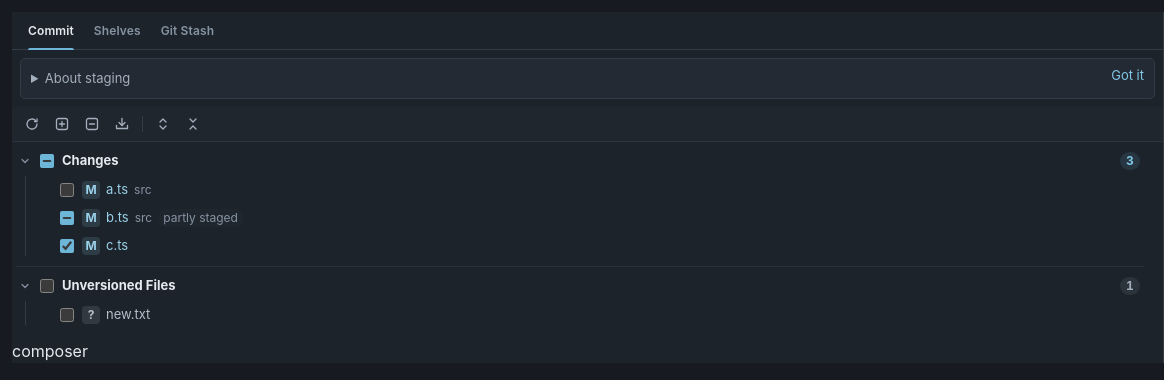
Test: CommitPanel › closes the file menu with Escape and returns focus to the file
The width and height of the screenshot is (1164, 380).
Right-click the button with aria-label "modified src/a.ts": (91, 190) [82,177,1144,203]
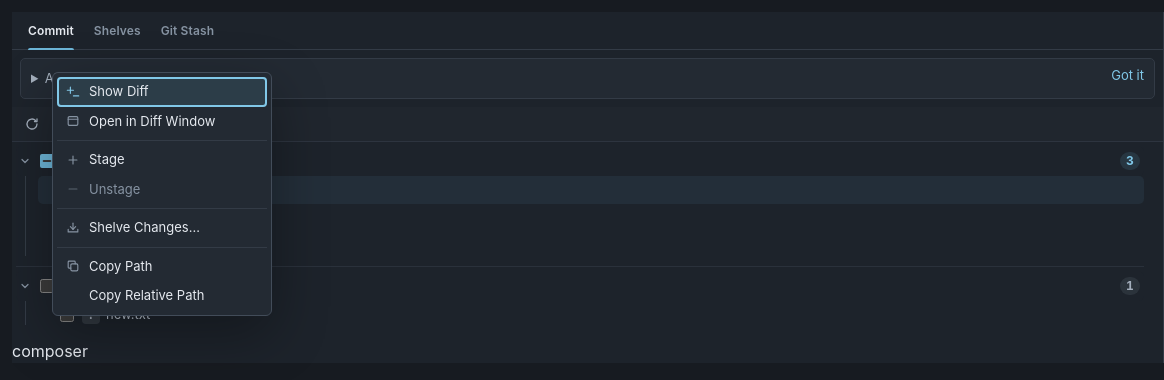
Result: the menu item "Show Diff" is shown at [57,77,267,106]
Press ArrowDown in the menu, box [52,72,272,316]
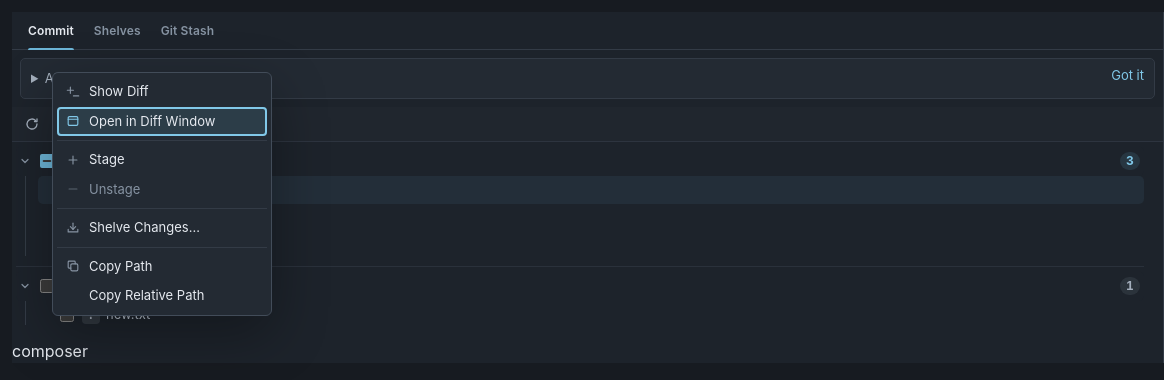
Result: the menu item "Open in Diff Window" is shown at [57,106,267,136]
Press Escape in the menu, box [52,72,272,316]
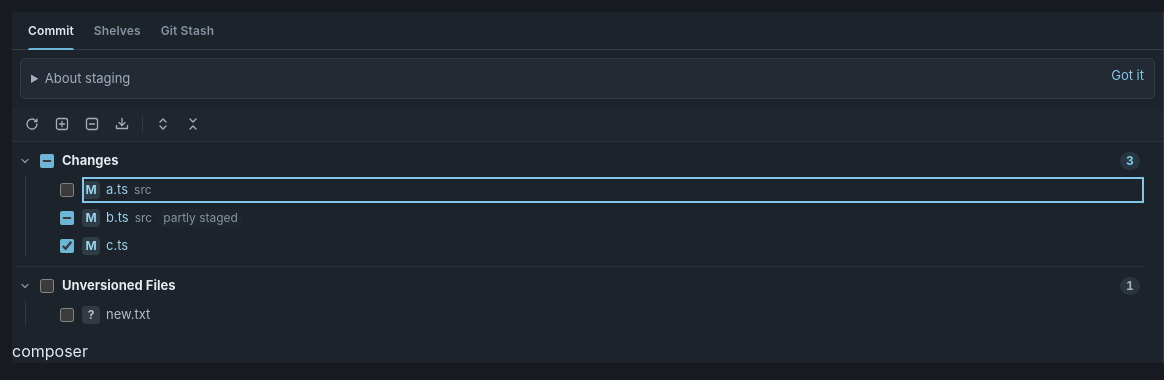
Result: the menu is gone
